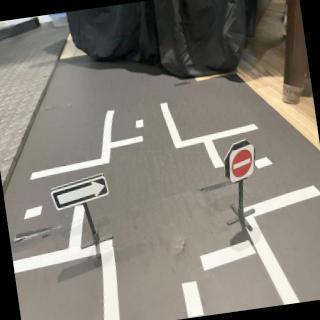sign_noentry: (226, 143, 262, 186)
sign_oneway_right: (49, 170, 113, 213)
